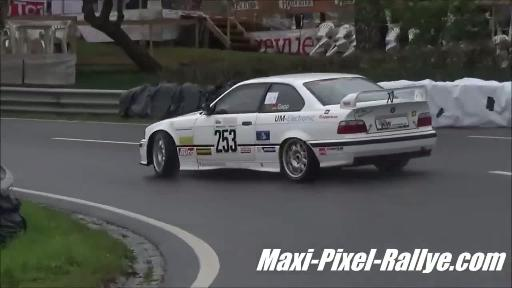CAR: (112, 68, 454, 192)
